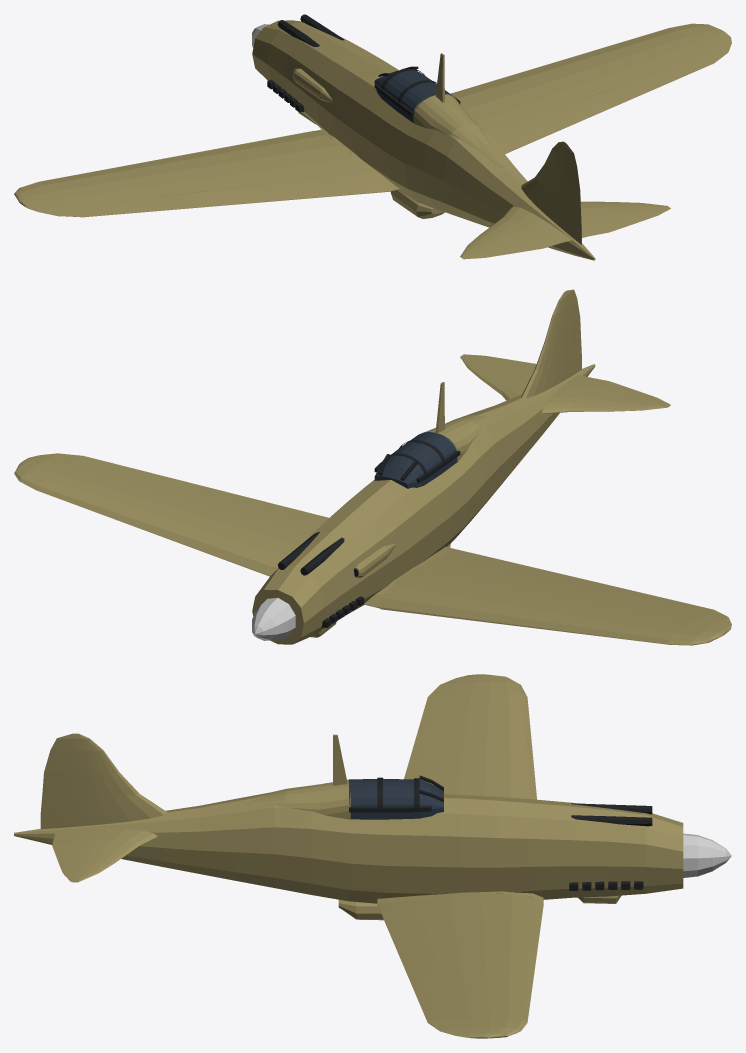
The picture shows the model from 3 angles, top to bottom: view 1: azimuth 30°, elevation 25°; view 2: azimuth 150°, elevation 25°; view 3: azimuth 270°, elevation 25°; orthographic projection. The views are drawn at different scales.
Parts seen in each view (by area): view 1: Fuselage, Wing L, Wing R, Flap L, Flap R, Dorsal Fairing, Stabilizer L, Aileron R, Rudder, Vertical Fin, Aileron L, Cockpit Glass (+7 smaller); view 2: Fuselage, Wing L, Wing R, Cockpit Glass, Stabilizer L, Vertical Fin, Flap L, Flap R, Stabilizer R, Spinner, Rudder, Dorsal Fairing (+6 smaller); view 3: Fuselage, Wing R, Wing L, Vertical Fin, Rudder, Cockpit Glass, Flap R, Dorsal Fairing, Stabilizer R, Aileron L, Spinner, Aileron R (+4 smaller).
Boxes of the visible parts, x1=… form: Fuselage: x1=252, y1=20, x2=595, y2=260; Wing L: x1=14, y1=129, x2=399, y2=216; Wing R: x1=450, y1=23, x2=731, y2=135; Flap L: x1=189, y1=174, x2=371, y2=207; Flap R: x1=490, y1=93, x2=612, y2=153; Dorsal Fairing: x1=413, y1=94, x2=505, y2=167; Stabilizer L: x1=460, y1=206, x2=551, y2=258; Aileron R: x1=605, y1=51, x2=716, y2=104; Rudder: x1=559, y1=142, x2=581, y2=244; Vertical Fin: x1=521, y1=141, x2=563, y2=225; Aileron L: x1=67, y1=194, x2=195, y2=217; Cockpit Glass: x1=374, y1=70, x2=454, y2=122; Fuselage: x1=252, y1=364, x2=595, y2=644; Wing L: x1=364, y1=546, x2=731, y2=645; Wing R: x1=14, y1=453, x2=318, y2=576; Cockpit Glass: x1=374, y1=432, x2=457, y2=488; Stabilizer L: x1=541, y1=385, x2=669, y2=413; Vertical Fin: x1=521, y1=293, x2=564, y2=398; Flap L: x1=452, y1=552, x2=612, y2=592; Flap R: x1=189, y1=486, x2=328, y2=527; Stabilizer R: x1=460, y1=355, x2=531, y2=400; Spinner: x1=252, y1=598, x2=295, y2=640; Rudder: x1=562, y1=289, x2=581, y2=379; Dorsal Fairing: x1=425, y1=405, x2=505, y2=462; Fuselage: x1=14, y1=792, x2=683, y2=903; Wing R: x1=377, y1=891, x2=543, y2=1038; Wing L: x1=408, y1=674, x2=536, y2=799; Vertical Fin: x1=78, y1=733, x2=167, y2=825; Rudder: x1=40, y1=733, x2=82, y2=829; Cockpit Glass: x1=349, y1=778, x2=443, y2=819; Flap R: x1=380, y1=905, x2=437, y2=976; Dorsal Fairing: x1=206, y1=779, x2=350, y2=819; Stabilizer R: x1=73, y1=828, x2=157, y2=882; Aileron L: x1=409, y1=692, x2=452, y2=760; Spinner: x1=683, y1=833, x2=731, y2=877; Aileron R: x1=409, y1=975, x2=452, y2=1024.
Size of the model in its own units: 10.58 by 2.49 by 8.85.
